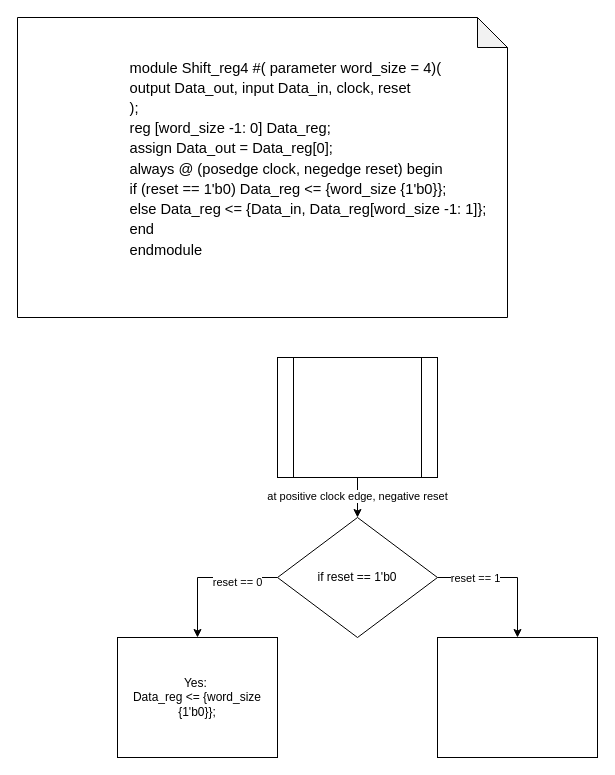
The diagram is 615 pixels wide and 775 high, and some of its shapes have lost their labels. The shapes that lost their labels are listed below. From the top down, each one's centre as x and y in pixels, then its label:
the point at 357,417: always, at posedge clock and at negedge reset:
the point at 517,697: No: Data_reg <= {Data_in, Data_reg[word_size -1: 1]};
